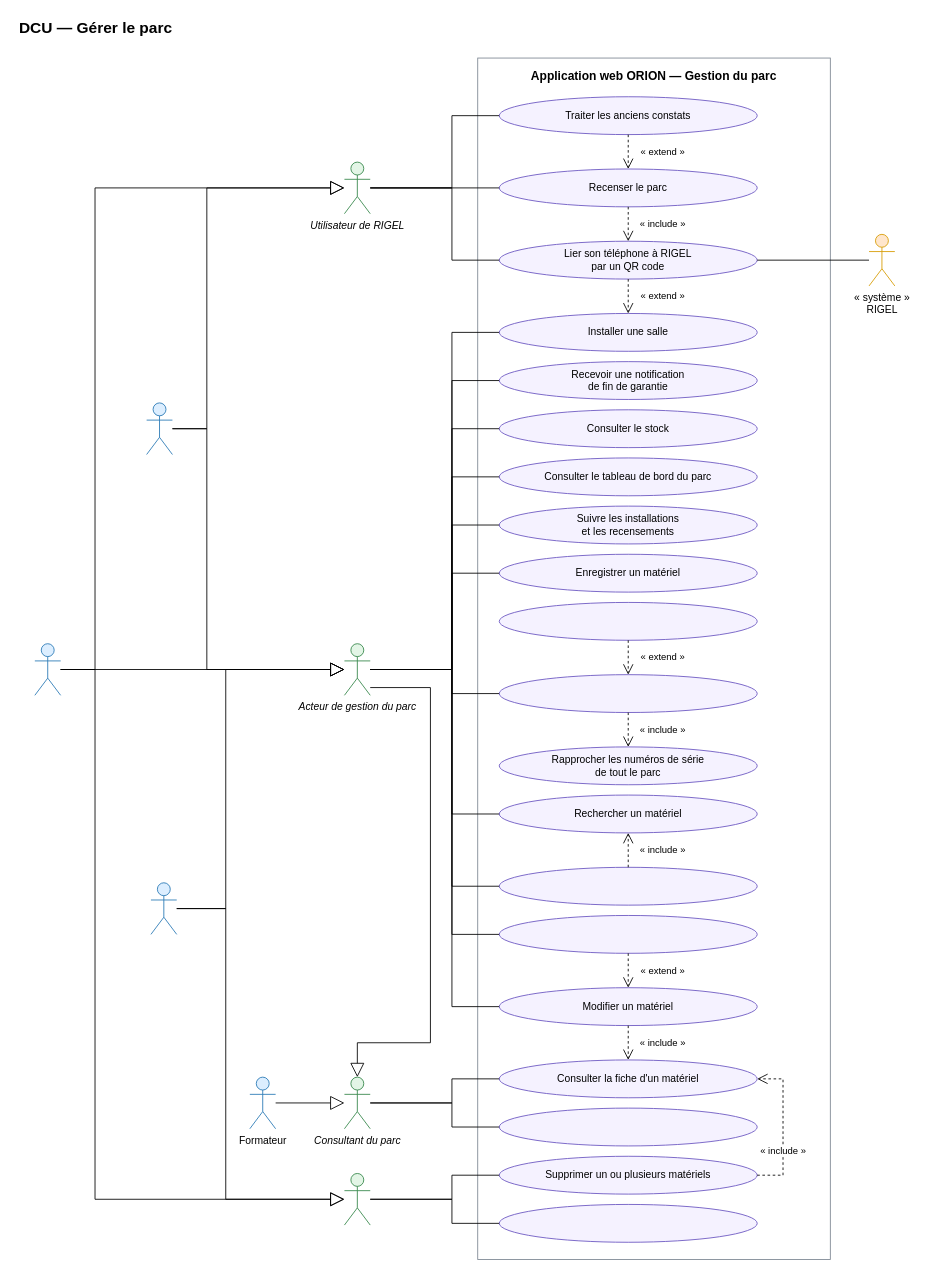
This 925x1275 diagram has some shape labels left out. The centre of each missing label's shape, as x and y in pixels:
"Acteur d'administration du parc" goes at (x=357, y=1199).
"Administrateur" goes at (x=47, y=669).
"Affecter un ou plusieurs matériels à une salle ou au stock" goes at (x=627, y=885).
"Changer l'école d'un matériel par un transfert validé" goes at (x=627, y=621).
"Consulter les salles par bâtiment et le matériel de chaque salle" goes at (x=627, y=1126).
"Gestionnaire" goes at (x=159, y=428).
"Gérer les salles et les étages" goes at (x=627, y=1223).
"Importer de nouveaux matériels en JSON" goes at (x=627, y=693).
"Renseigner la fin de garantie" goes at (x=627, y=934).
"Super administrateur" goes at (x=163, y=908).
